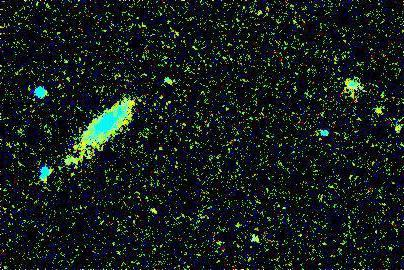star: (144, 194, 174, 224)
